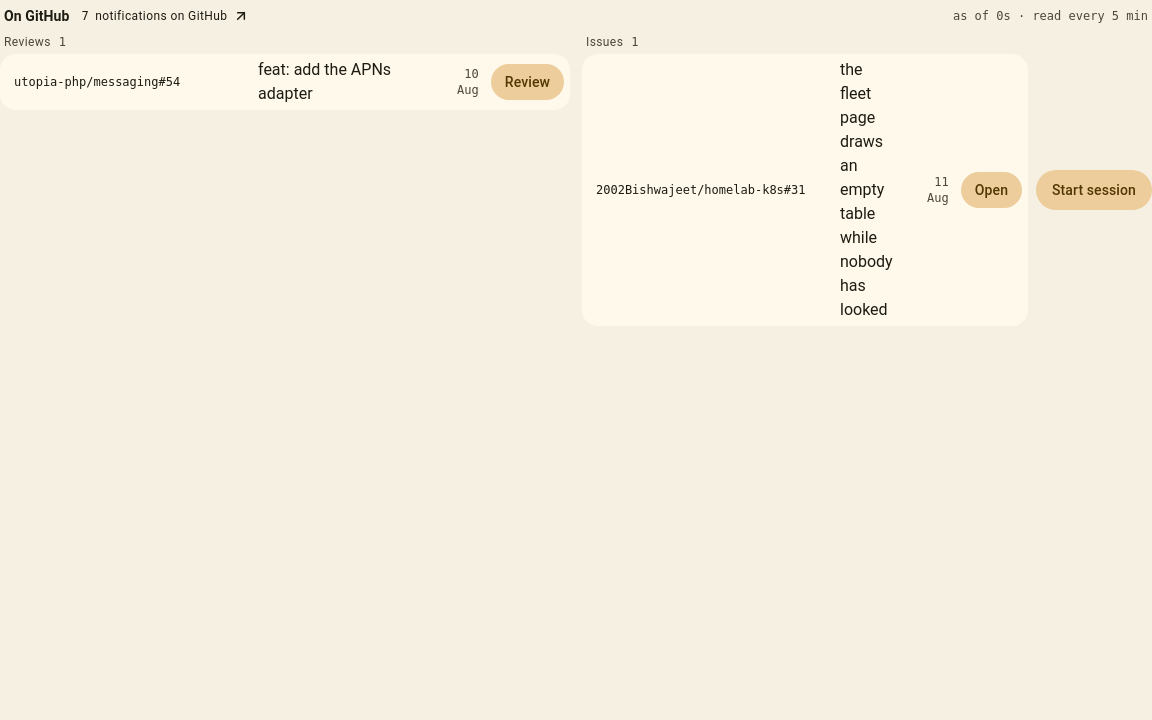
Test case: Start session › offers New session when no workspace holds the repository
Click the button with aria-label "Start session on 2002Bishwajeet/homelab-k8s#31": (1094, 190) top-left (1036, 170), bottom-right (1151, 210)
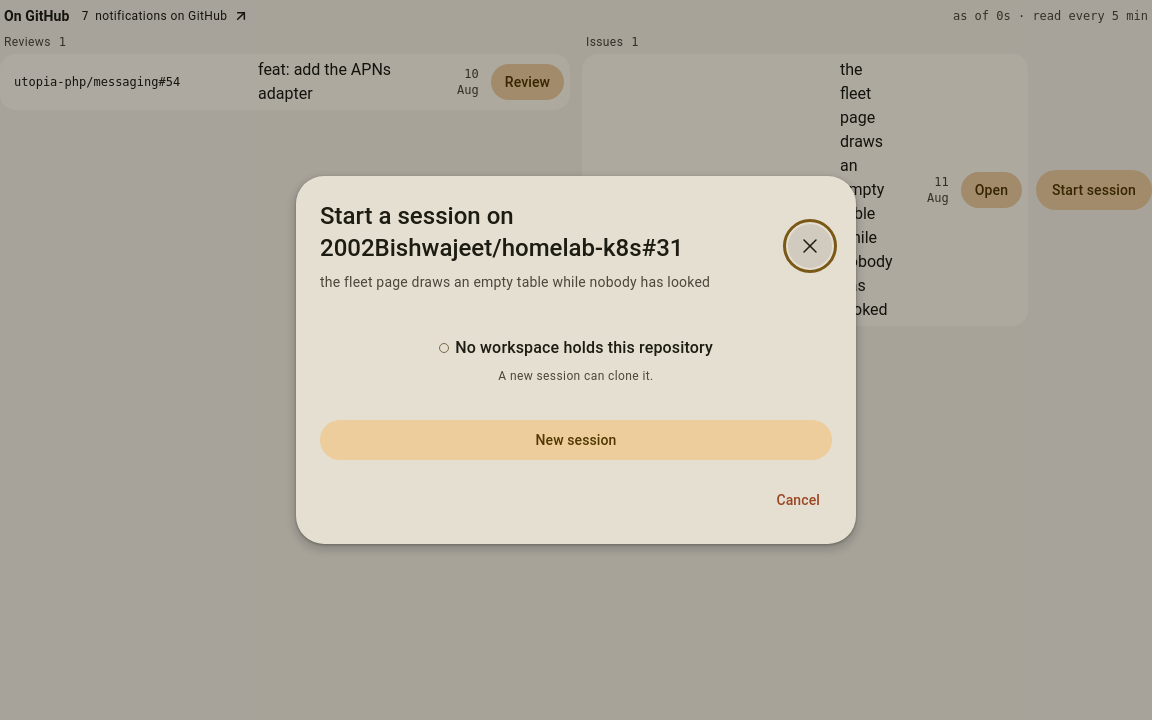
Check: the text "No workspace holds this repository" is shown, box top-left (439, 336), bottom-right (713, 360)
